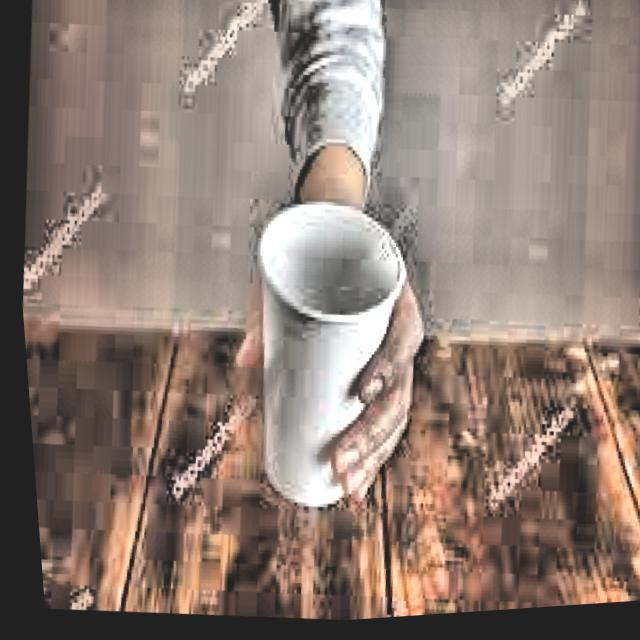Cup: (219, 187, 419, 530)
